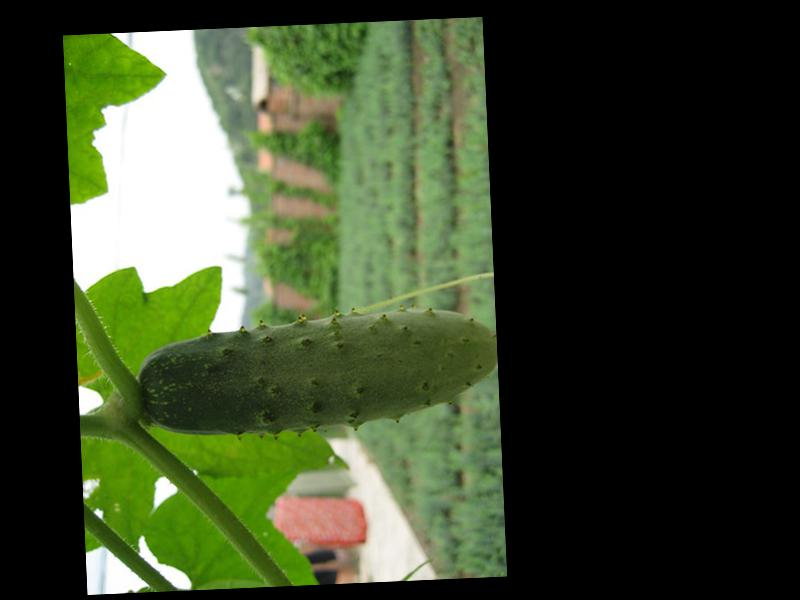Cucumber: (136, 307, 499, 438)
